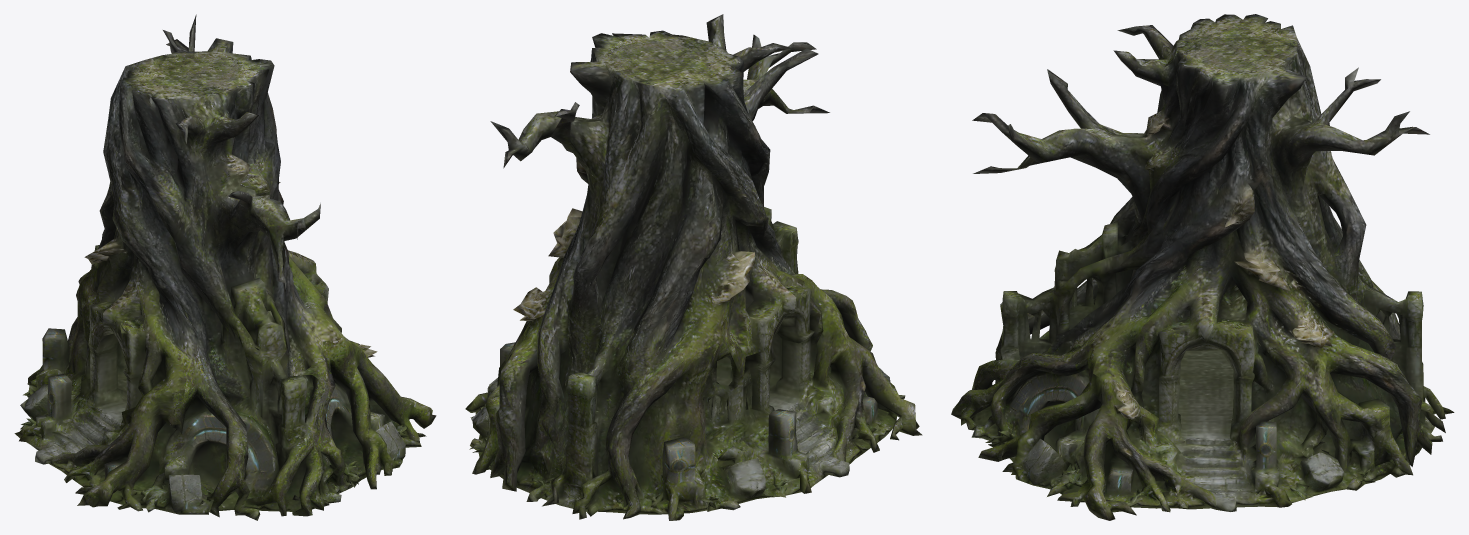
Rendered from env_bw_giant_tree.glb.
3 views of the same model, side by side, from view 1: azimuth 30°, elevation 25°; view 2: azimuth 150°, elevation 25°; view 3: azimuth 270°, elevation 25° (orthographic). The views are drawn at different scales.
Parts seen in each view (by area): view 1: tripo_node_589b5e48-5785-4fb1-896b-fb792d376054; view 2: tripo_node_589b5e48-5785-4fb1-896b-fb792d376054; view 3: tripo_node_589b5e48-5785-4fb1-896b-fb792d376054.
Part boxes in pixels (x1=…): tripo_node_589b5e48-5785-4fb1-896b-fb792d376054: x1=14, y1=14, x2=436, y2=520; tripo_node_589b5e48-5785-4fb1-896b-fb792d376054: x1=465, y1=14, x2=922, y2=520; tripo_node_589b5e48-5785-4fb1-896b-fb792d376054: x1=951, y1=14, x2=1454, y2=520.
Size of the model in its own units: 0.9023 by 0.8256 by 1.
1 material, 1 textured.
